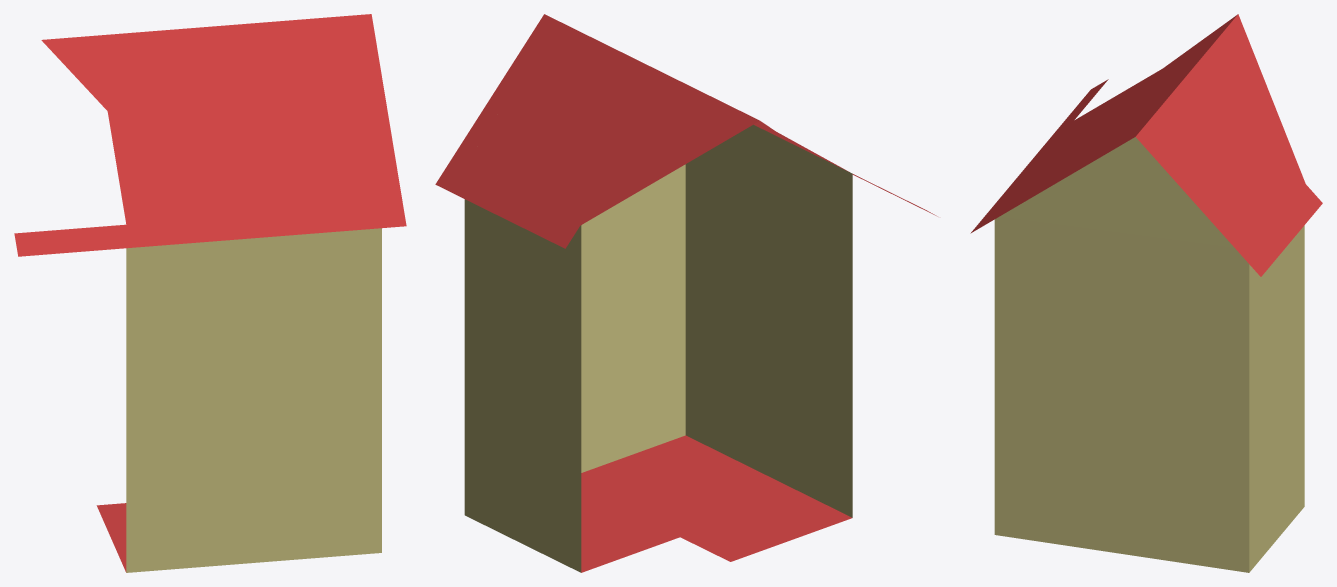
3 renders of one model, left to right at view 1: azimuth 30°, elevation 25°; view 2: azimuth 150°, elevation 25°; view 3: azimuth 270°, elevation 25°, orthographic. The views are drawn at different scales.
Bounding box in the file's own units: 11.53 × 9.15 × 12.24.
